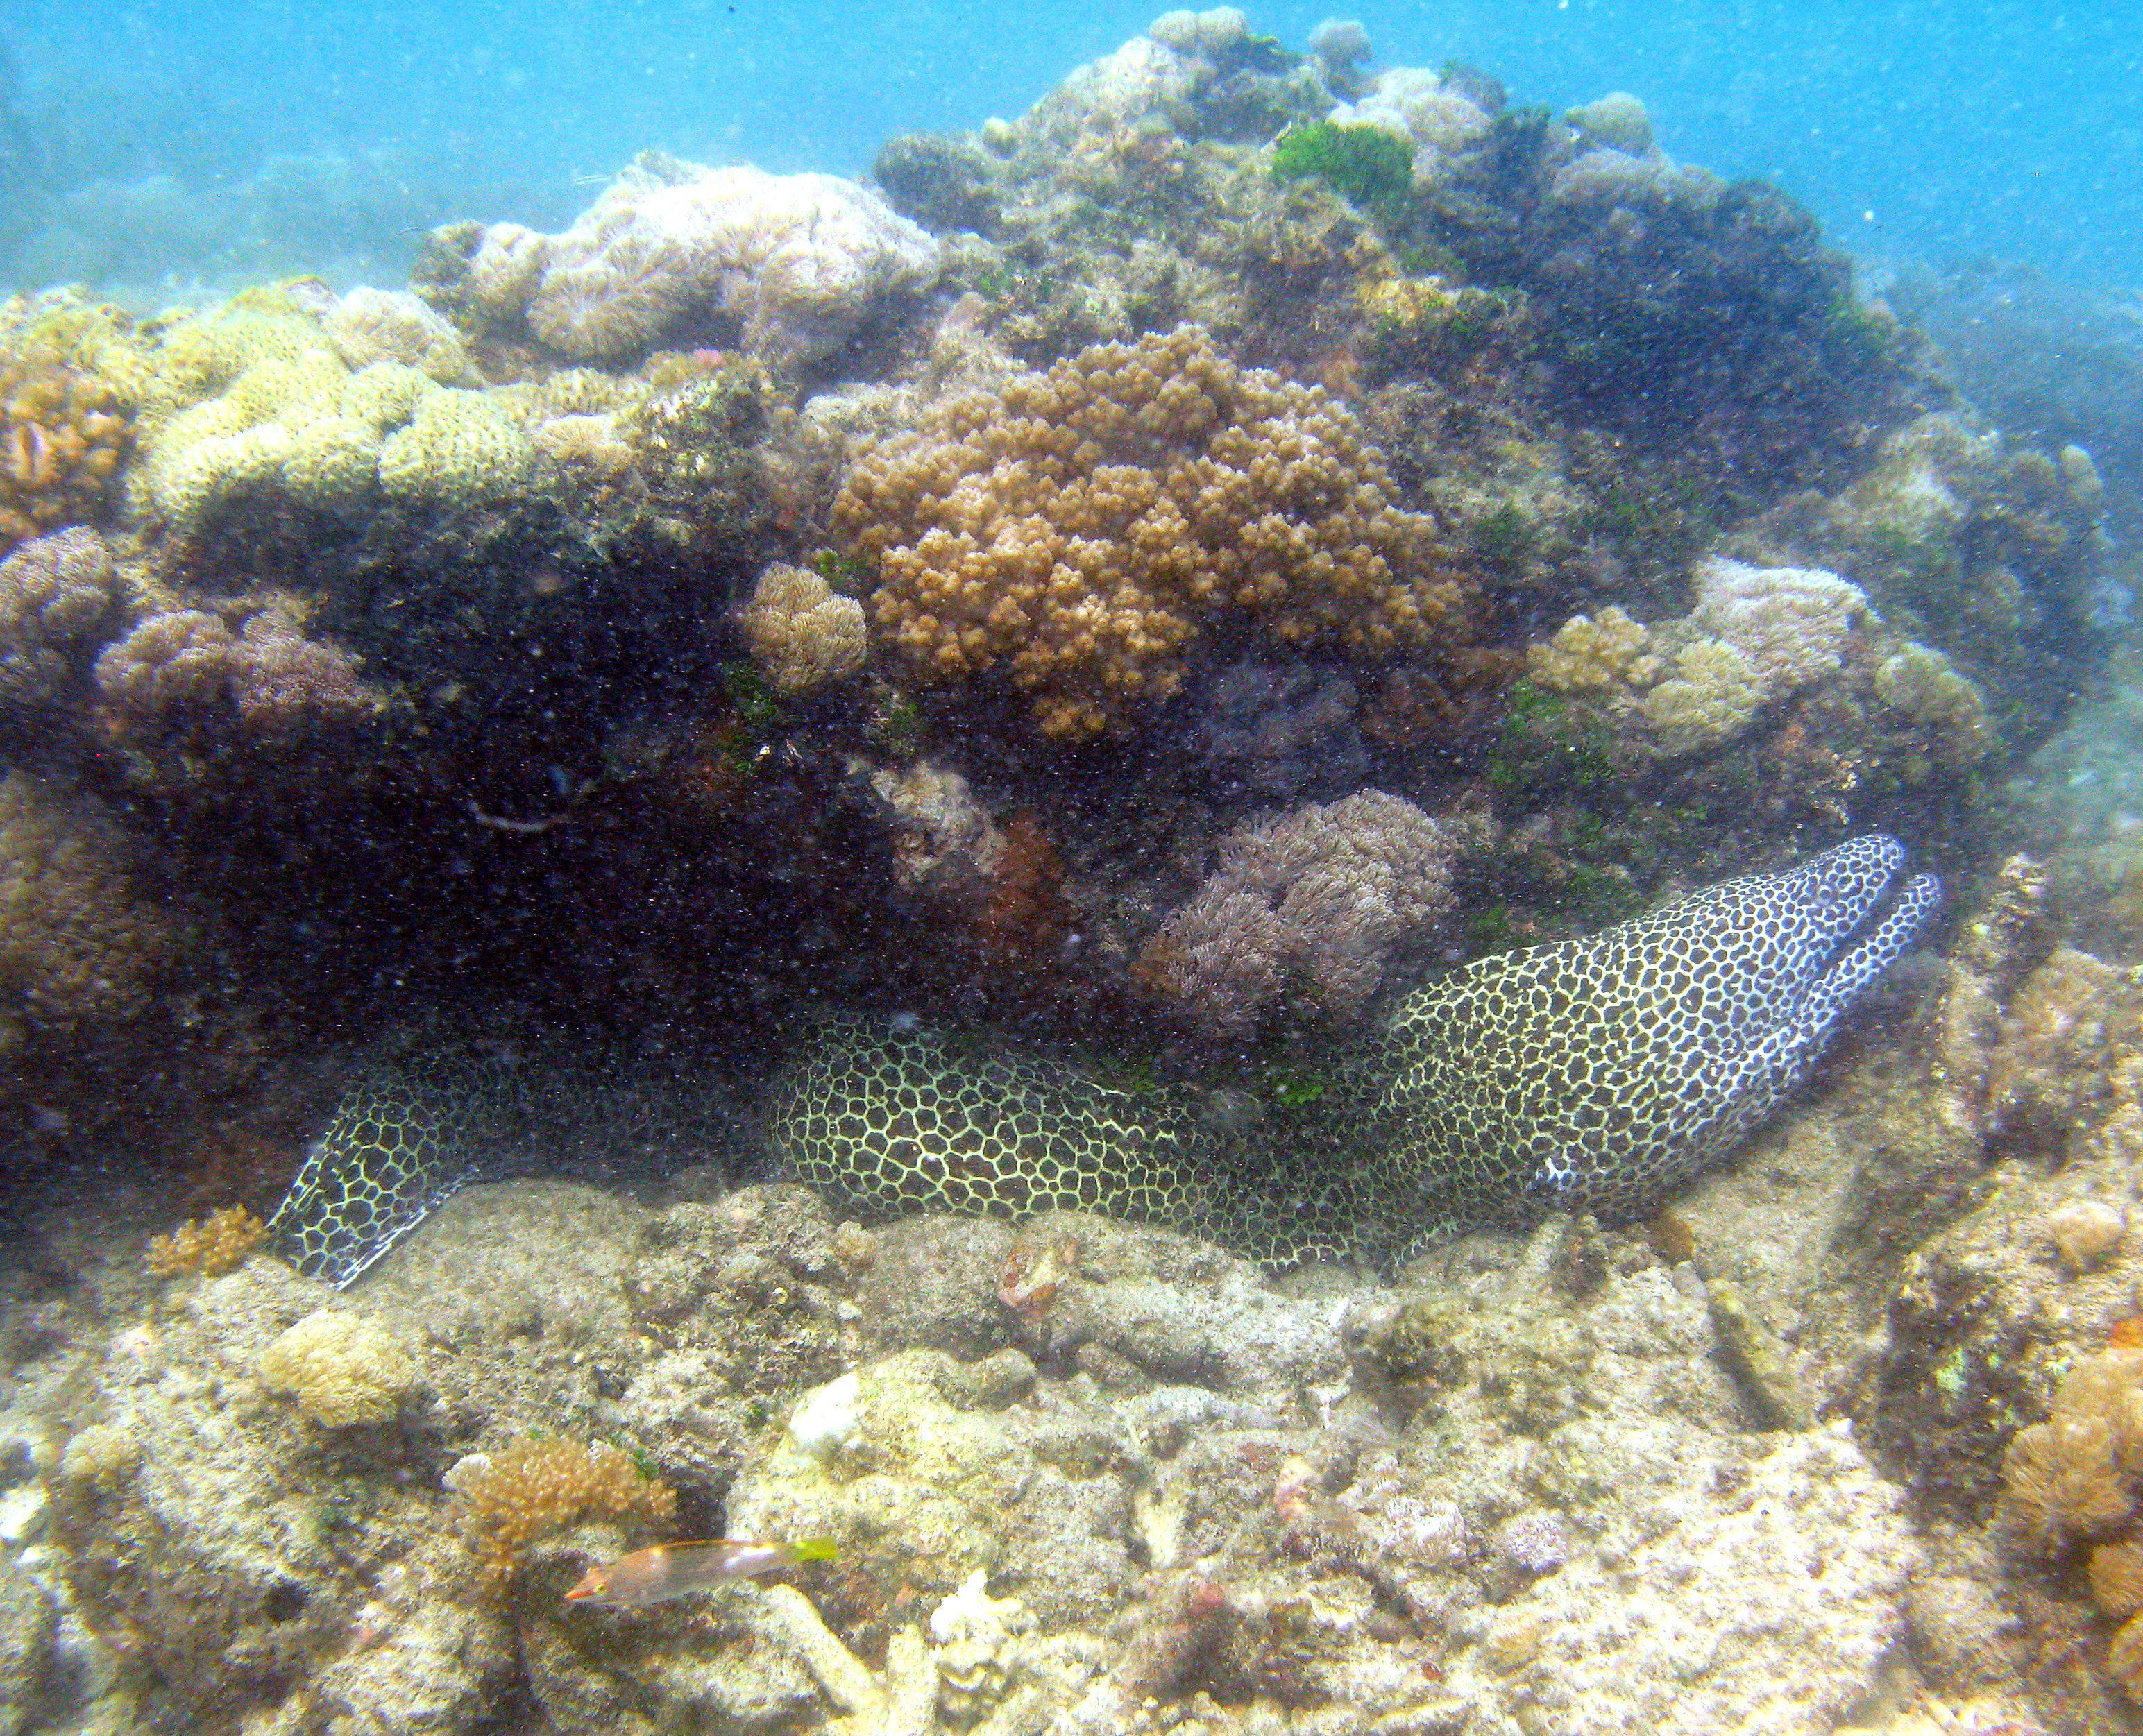Fish: (230, 792, 1961, 1298)
